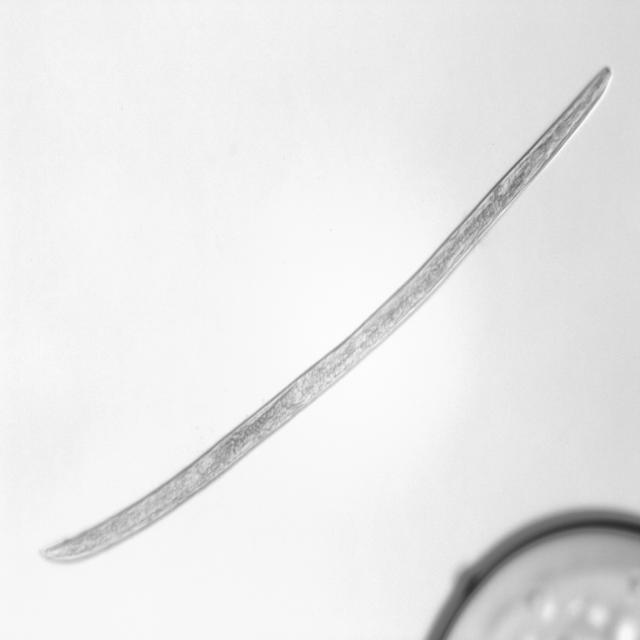Pratylenchus: (28, 59, 616, 572)
